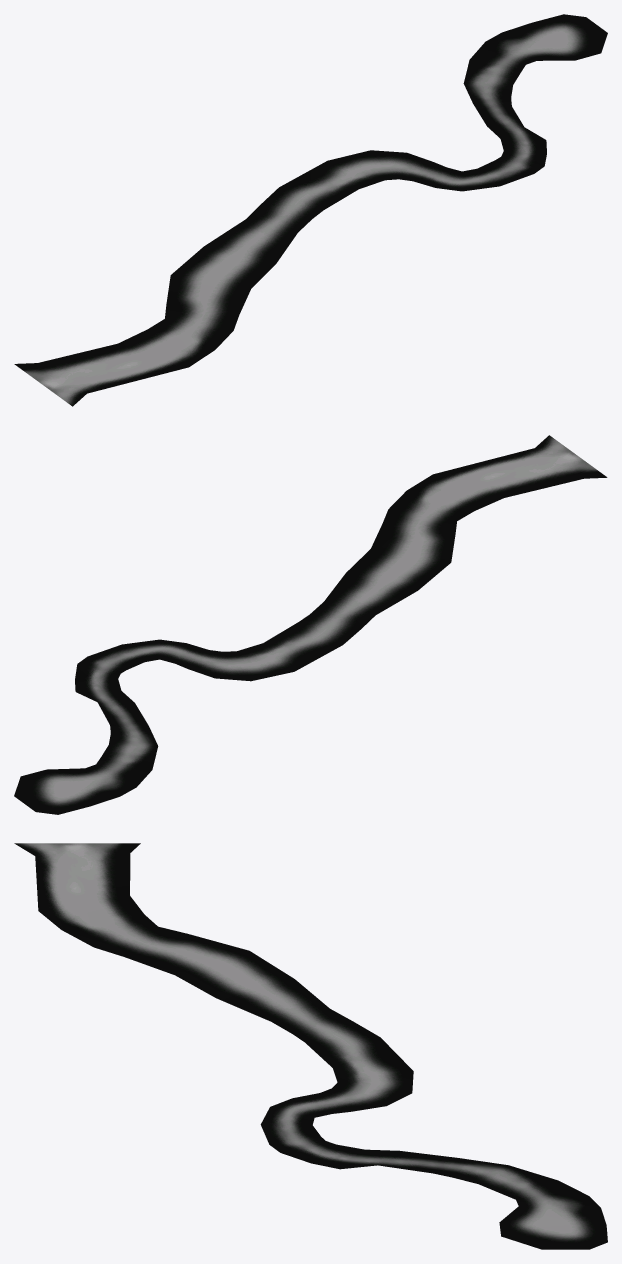
The model's file is Prop_Water04.glb.
3 renders of one model, top to bottom at view 1: azimuth 30°, elevation 25°; view 2: azimuth 210°, elevation 25°; view 3: azimuth 270°, elevation 25°, orthographic. The views are drawn at different scales.
Visible parts, largest first — view 1: xiutz_water04; view 2: xiutz_water04; view 3: xiutz_water04.
Boxes of the visible parts, <box> form: xiutz_water04: <box>14,14,607,406</box>; xiutz_water04: <box>14,435,607,814</box>; xiutz_water04: <box>14,843,607,1249</box>.
Size of the model in its own units: 2056 by 15.82 by 1248.
Materials: 1 (1 with a texture image).
